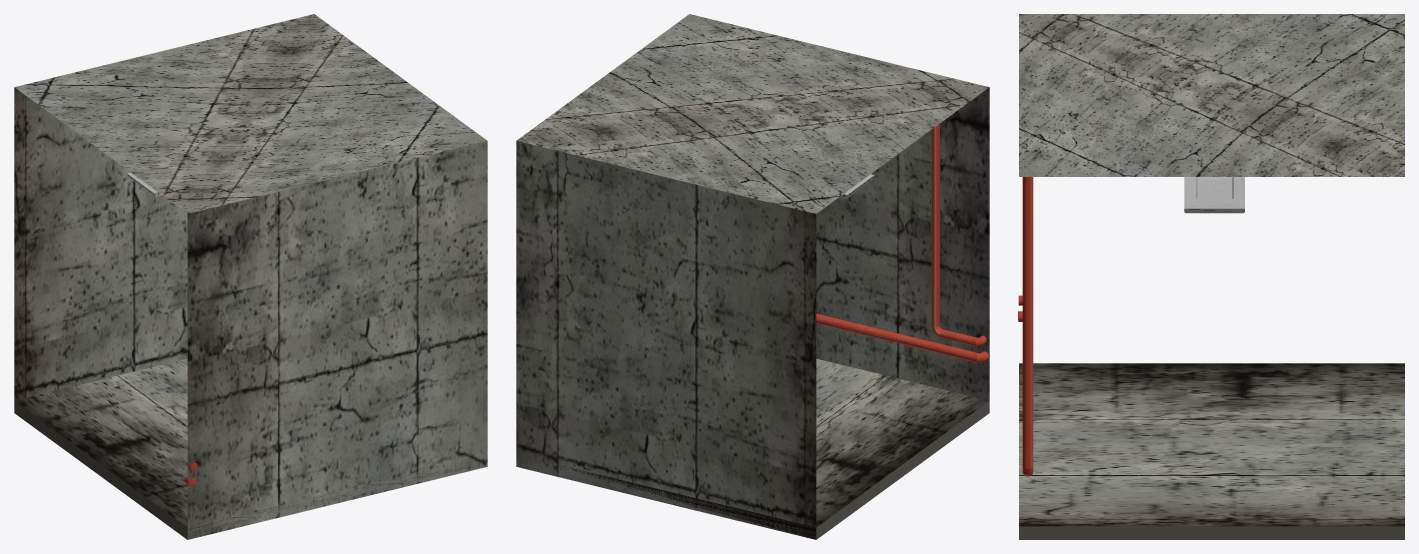
Rendered from models_v2.glb.
3 renders of one model, left to right at view 1: azimuth 30°, elevation 25°; view 2: azimuth 150°, elevation 25°; view 3: azimuth 270°, elevation 25°, orthographic. The views are drawn at different scales.
Visible parts, largest first — view 1: Cube.001; view 2: Cube.001, Cilindro.001, Cilindro; view 3: Cube.001, Cilindro, Cubo.004.
Boxes of the visible parts, <box> form: Cube.001: <box>14,14,487,539</box>; Cube.001: <box>516,14,989,539</box>; Cilindro.001: <box>931,124,986,346</box>; Cilindro: <box>816,313,988,362</box>; Cube.001: <box>1019,14,1404,539</box>; Cilindro: <box>1018,177,1033,476</box>; Cubo.004: <box>1184,177,1244,213</box>.
Bounding box in the file's own units: 5 × 5.19 × 5.01.
4 materials, 4 textured.
